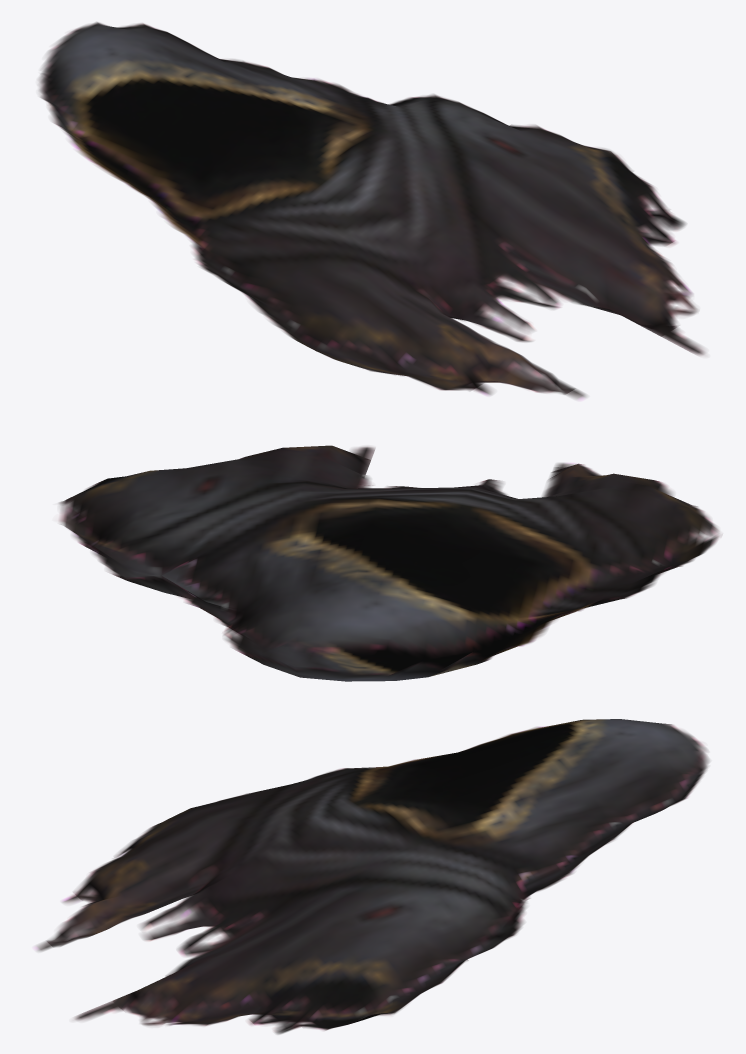
File: drop_hood.glb
3 renders of one model, top to bottom at view 1: azimuth 30°, elevation 25°; view 2: azimuth 150°, elevation 25°; view 3: azimuth 270°, elevation 25°, orthographic. The views are drawn at different scales.
Visible parts, largest first — view 1: drop_hood; view 2: drop_hood; view 3: drop_hood.
Boxes of the visible parts, x1=… form: drop_hood: x1=38, y1=22, x2=705, y2=399; drop_hood: x1=58, y1=445, x2=720, y2=681; drop_hood: x1=35, y1=719, x2=709, y2=1034.
Size of the model in its own units: 0.3893 by 0.1156 by 0.4895.
Materials: 1 (1 with a texture image).
